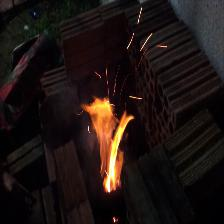fire: (66, 64, 145, 199)
